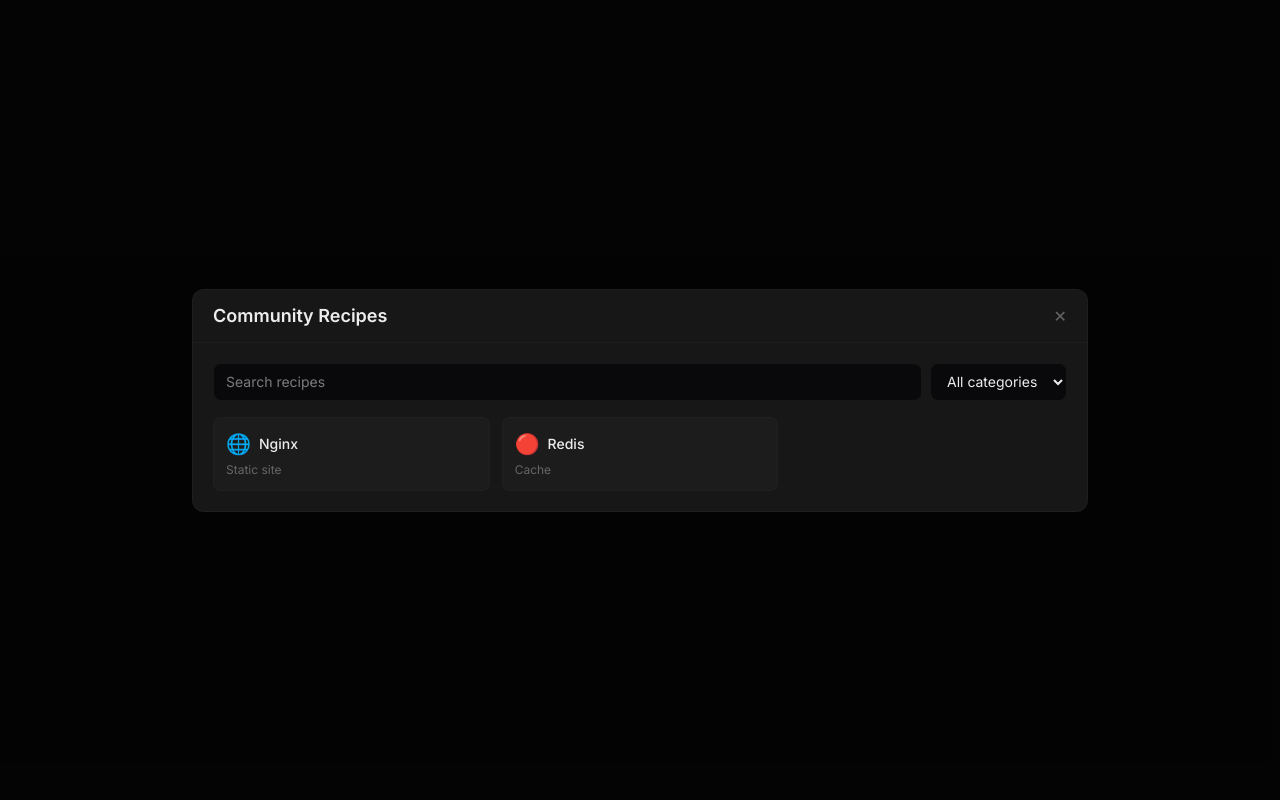
Test: CommunityRecipeBrowser › filters by search
The image size is (1280, 800).
Check: the text "Nginx" is shown, box [259,434,298,454]
Type "redis" into the search field with placeholder "Search recipes". click: (568, 382)
box: [213,362,922,400]
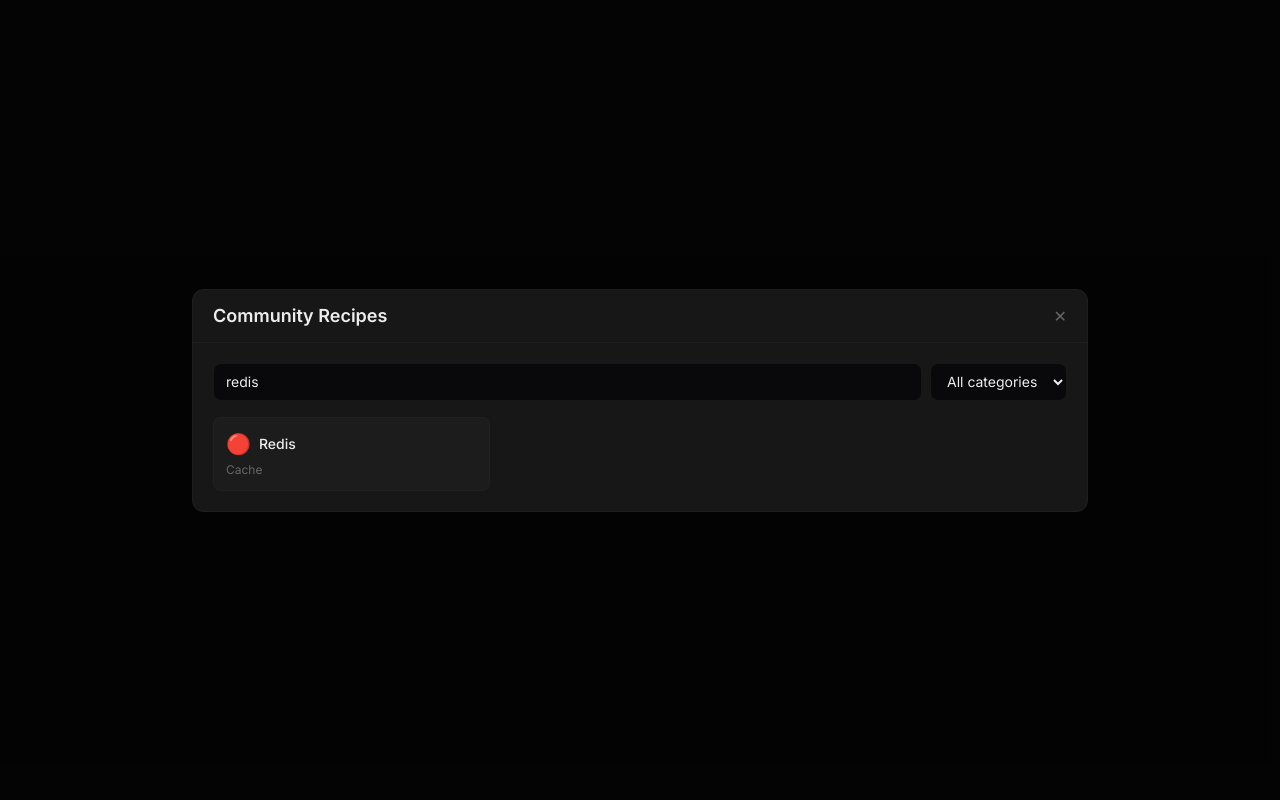
Check: the text "Redis" is shown, box [259,434,296,454]
Check: the button "Nginx" is gone
